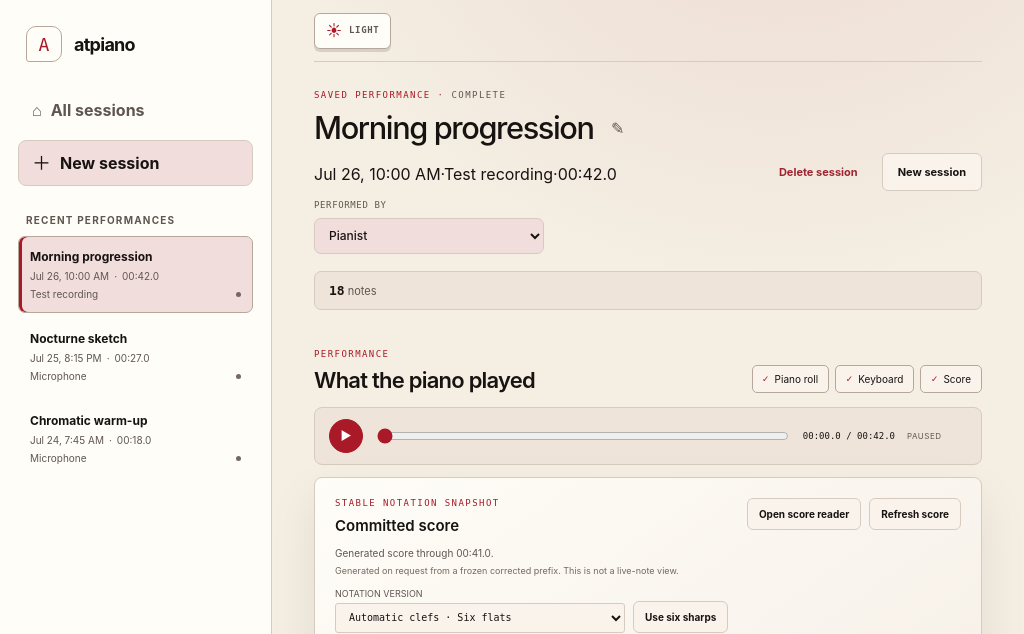
Scenario: shared application › enters New without creating history and replay claims the active target
This screenshot has width=1024, height=634.
Expected: the heading "Morning progression" is shown, [314, 111, 594, 145]
Click the button "＋ New session".
click(136, 163)  # box [18, 140, 253, 186]
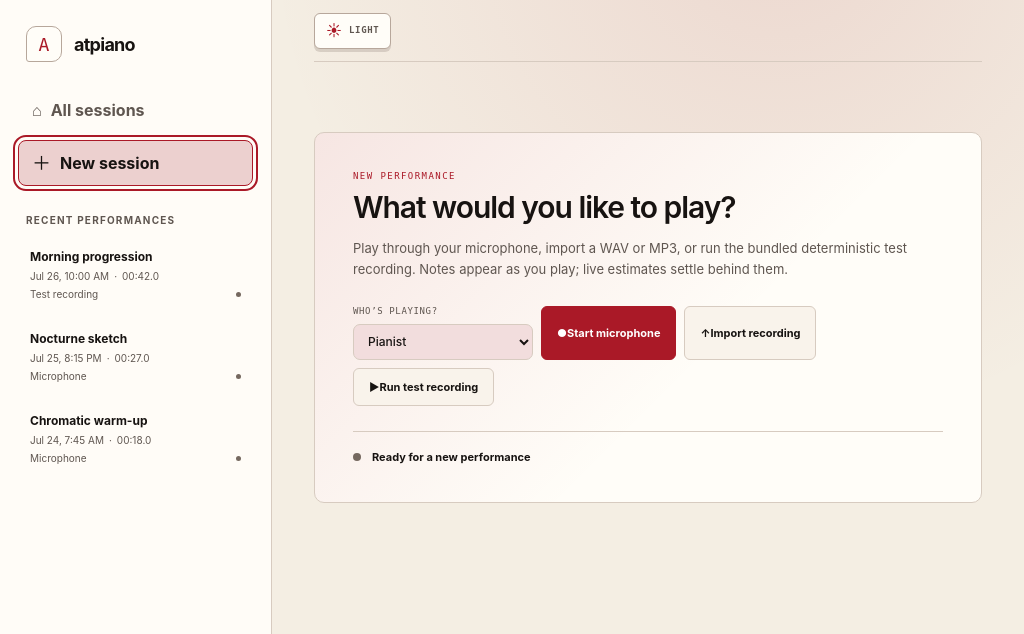
Expected: the number of buttons "Morning progression" is 1, [18, 236, 253, 313]
Now the heading "What would you like to play?" is shown, box [353, 189, 736, 225]
Click the button "▶Run test recording".
click(424, 387)  # box [353, 368, 494, 406]
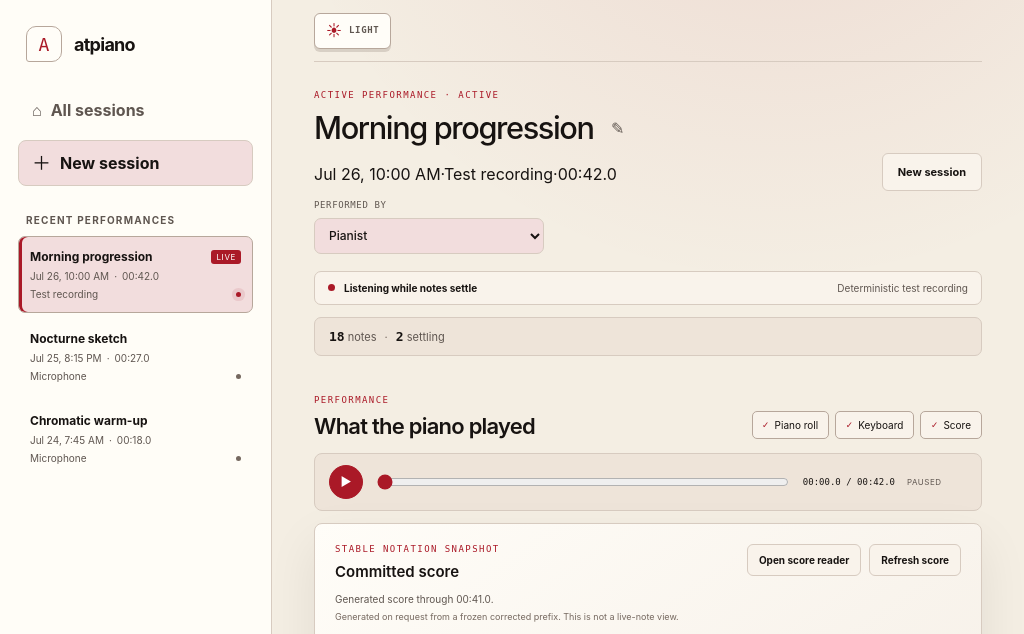
Now the text "Listening while notes settle" is shown, box [344, 282, 477, 294]
Now the heading "Morning progression" is shown, box [314, 111, 594, 145]
